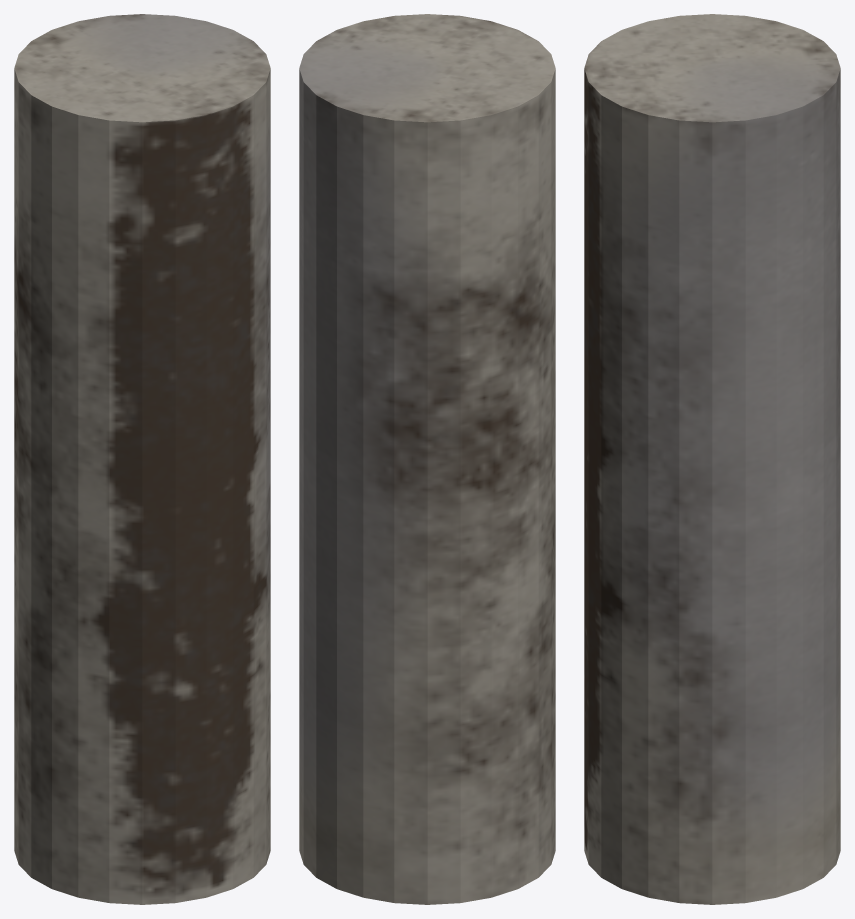
The model's file is BLD_Column.fbx.
The picture shows the model from 3 angles, left to right: view 1: azimuth 30°, elevation 25°; view 2: azimuth 150°, elevation 25°; view 3: azimuth 270°, elevation 25°; orthographic projection.
Parts seen in each view (by area): view 1: pillar; view 2: pillar; view 3: pillar.
Part boxes in pixels (x1,y1,x2,y2): pillar: (14,14,270,904); pillar: (299,14,555,904); pillar: (584,14,840,904).
Bounding box in the file's own units: 125 × 420 × 125.
Materials: 1 (1 with a texture image).
